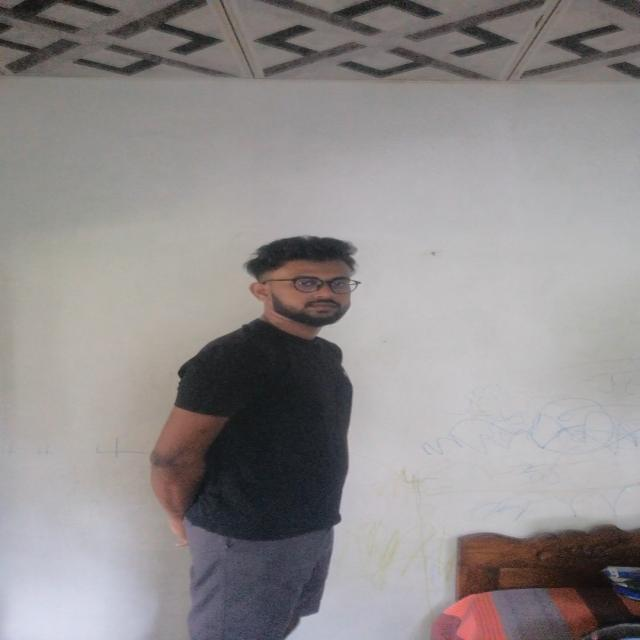Person: (146, 233, 374, 640)
